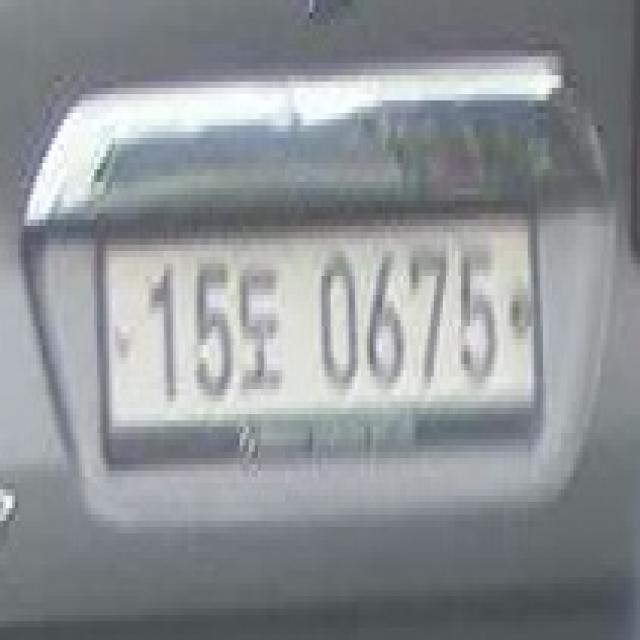0: (315, 238, 361, 396)
1: (143, 245, 185, 414)
5: (455, 232, 507, 402), (188, 245, 237, 414)
6: (358, 232, 406, 402)
7: (406, 232, 455, 402)
do: (237, 251, 285, 408)
license_plate: (88, 188, 555, 490)
